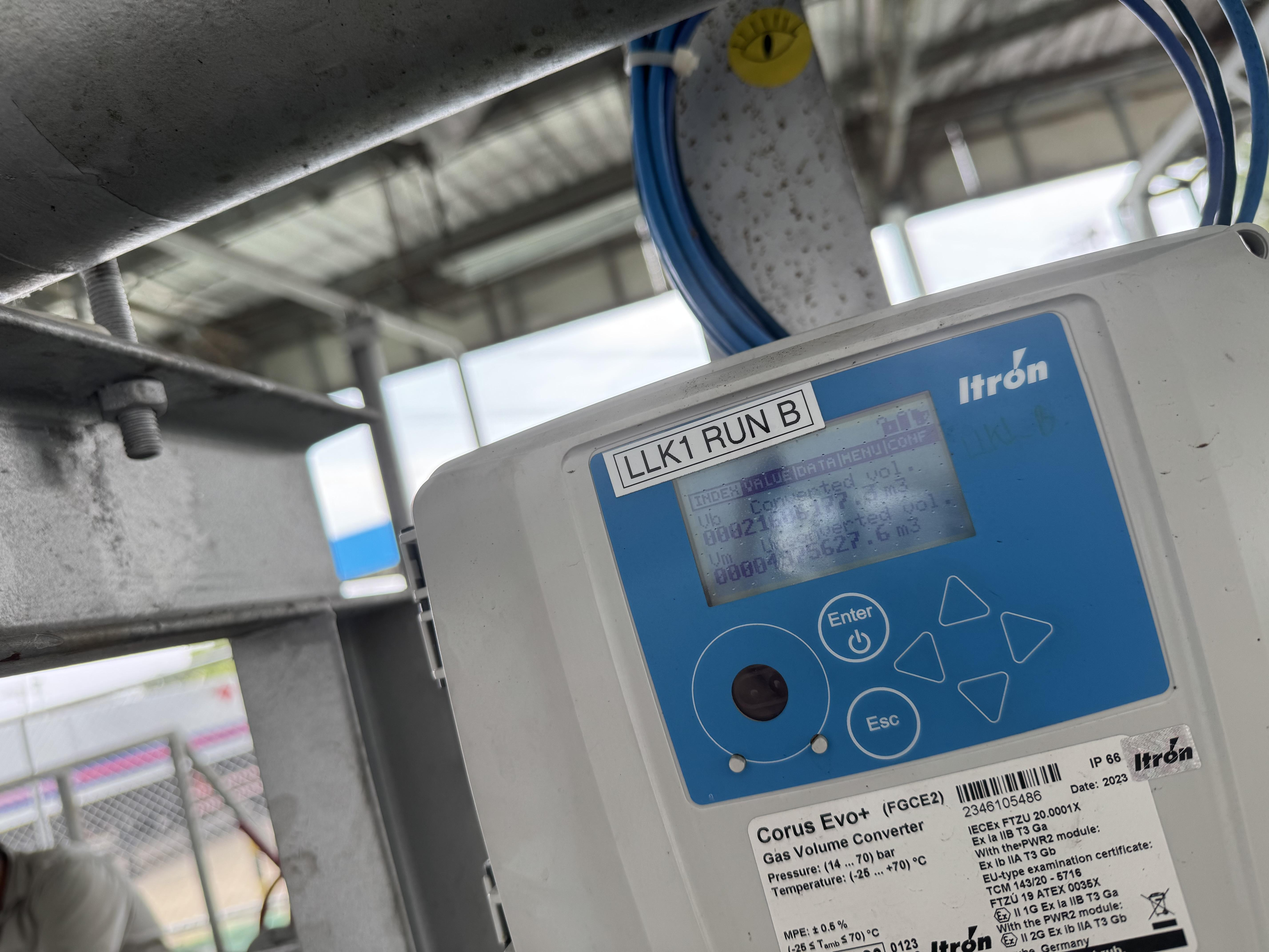digital_screen: (667, 389, 977, 621)
